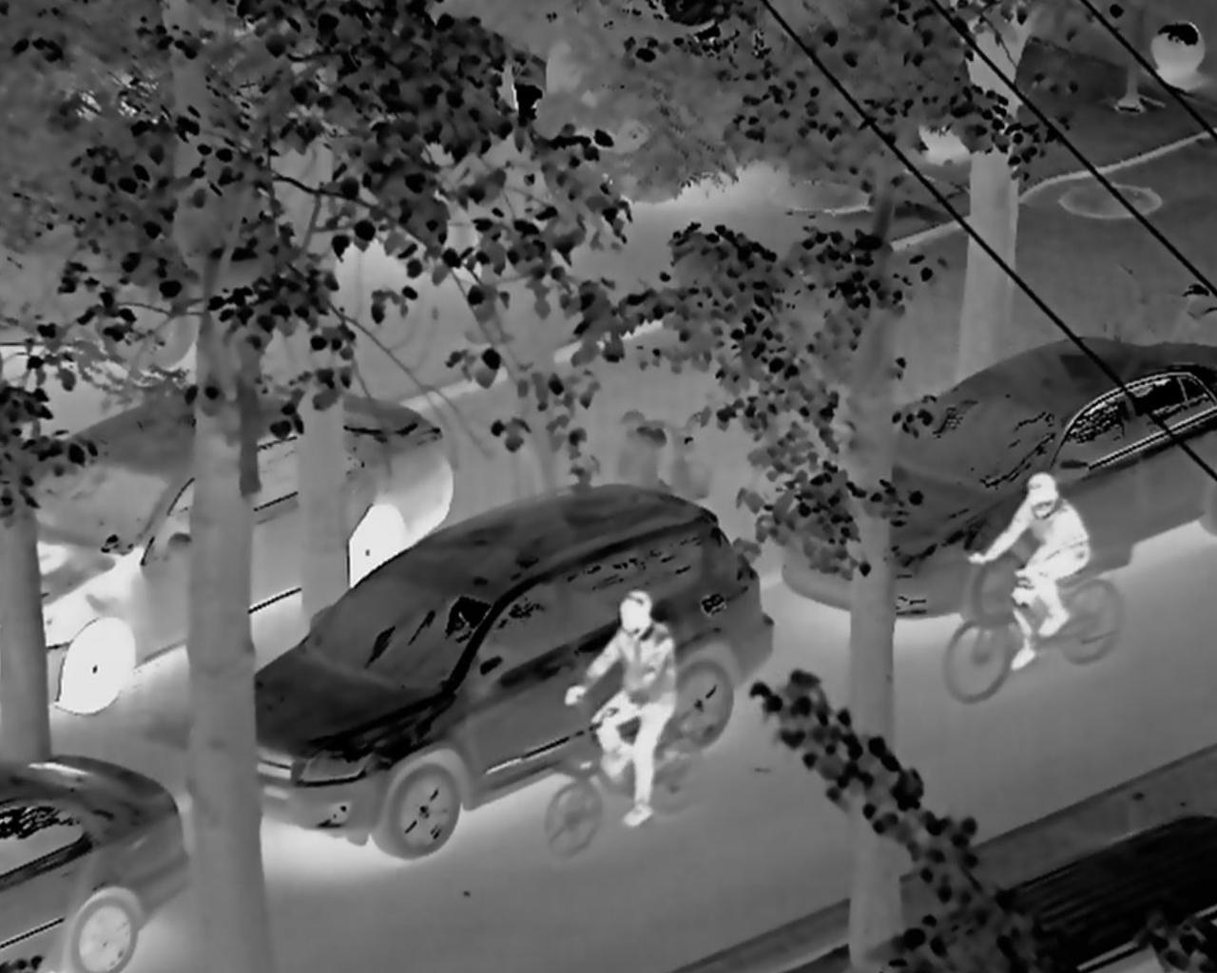person: (961, 467, 1115, 668), (566, 582, 683, 837)
